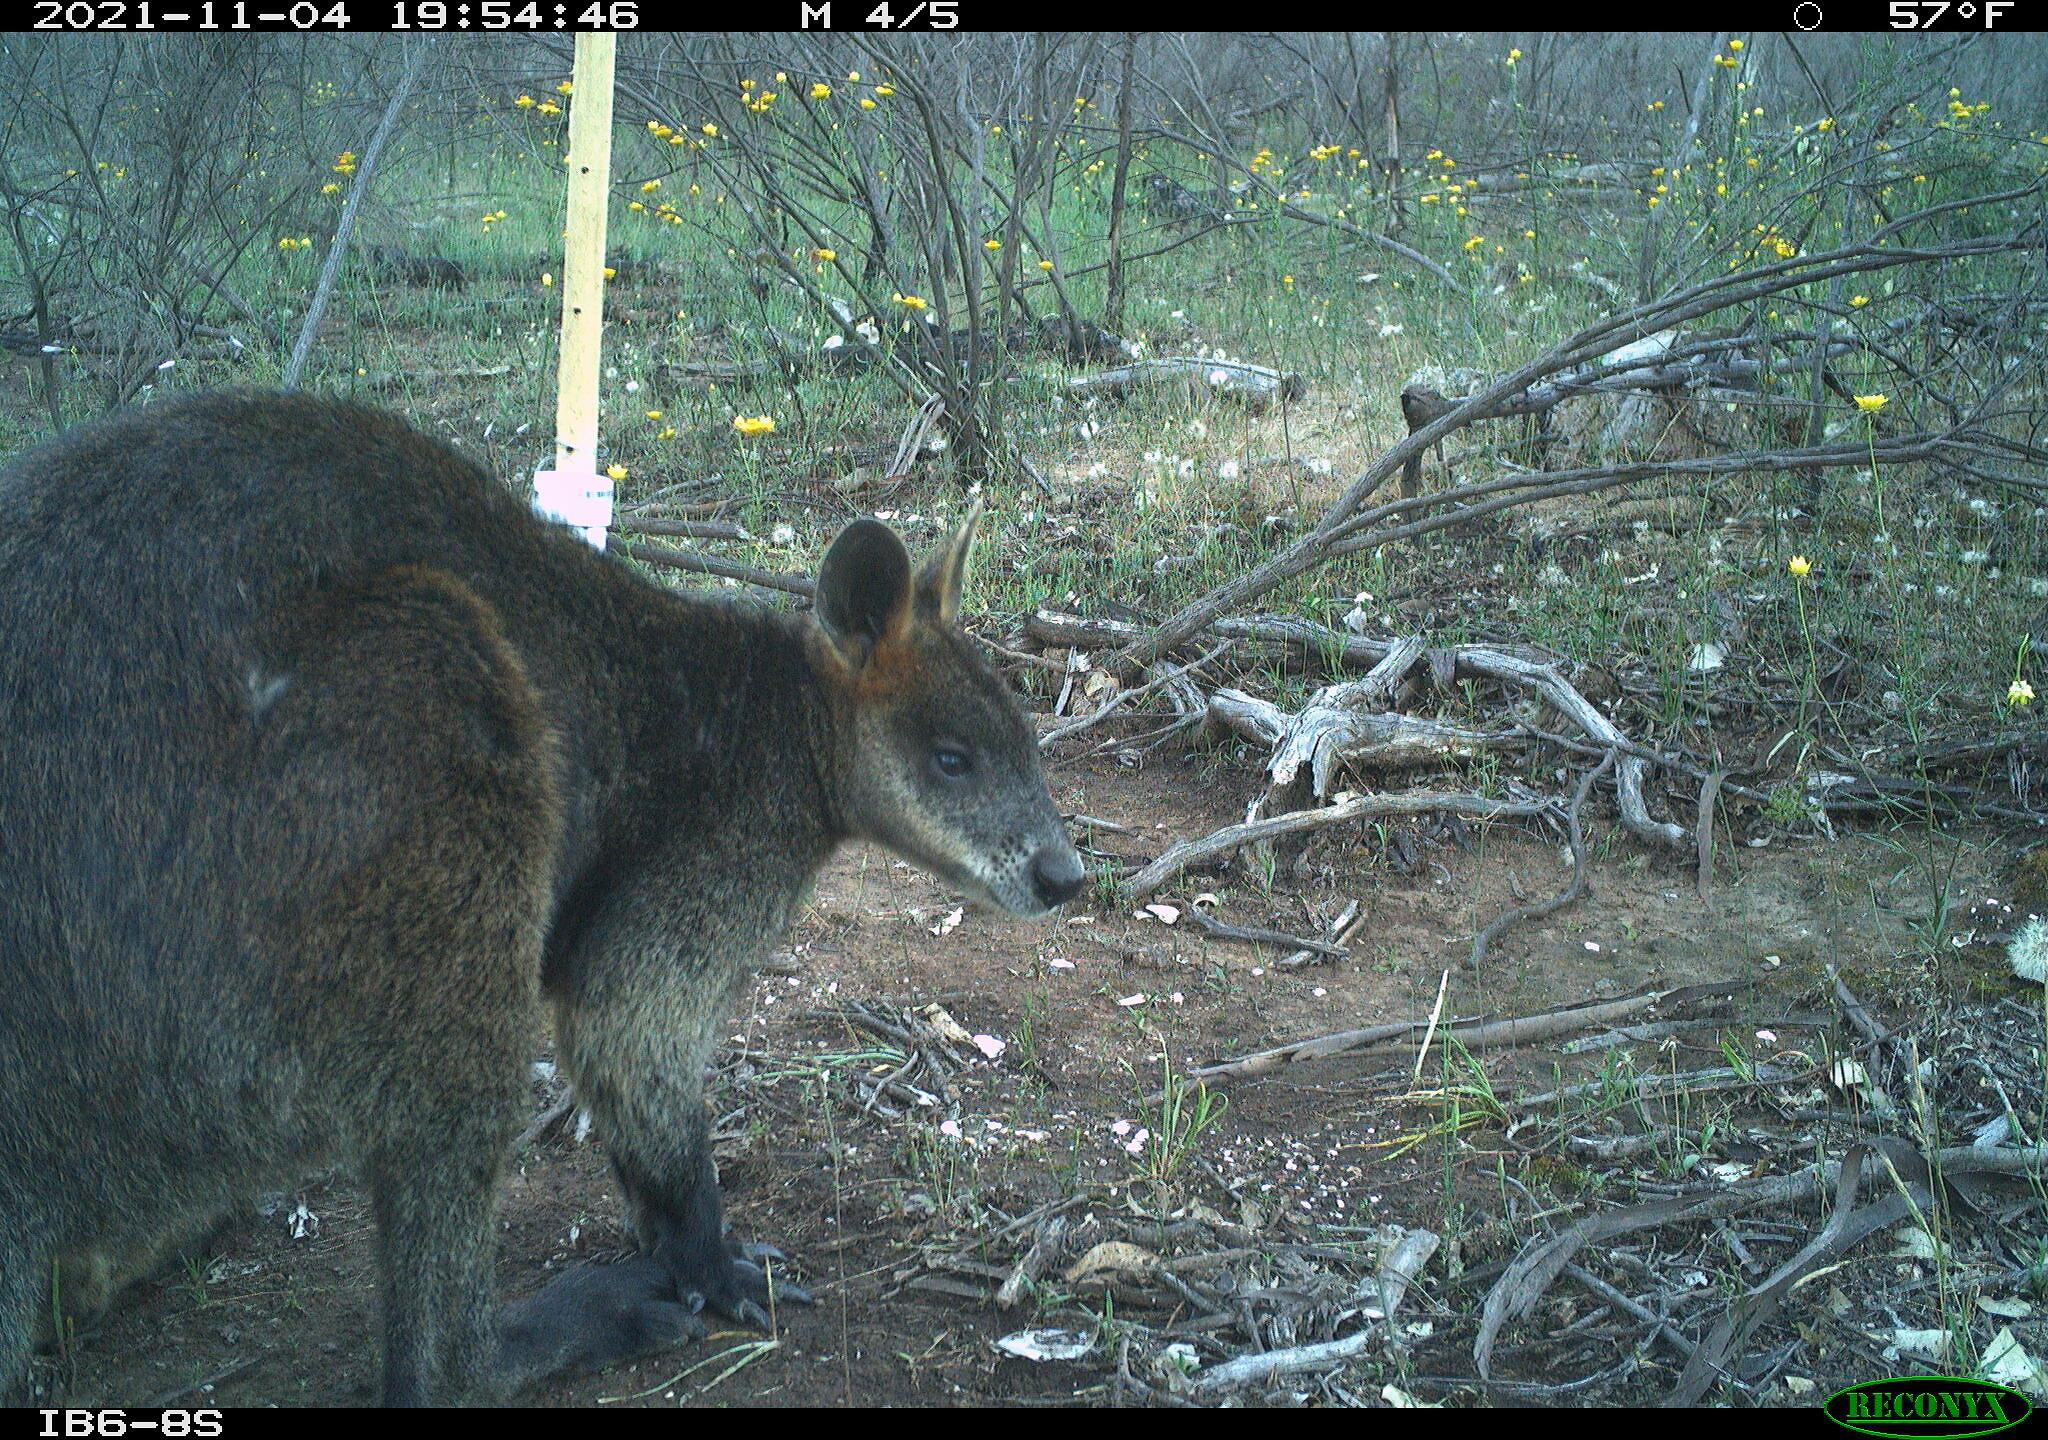Swamp wallaby: (0, 386, 1089, 1407)
